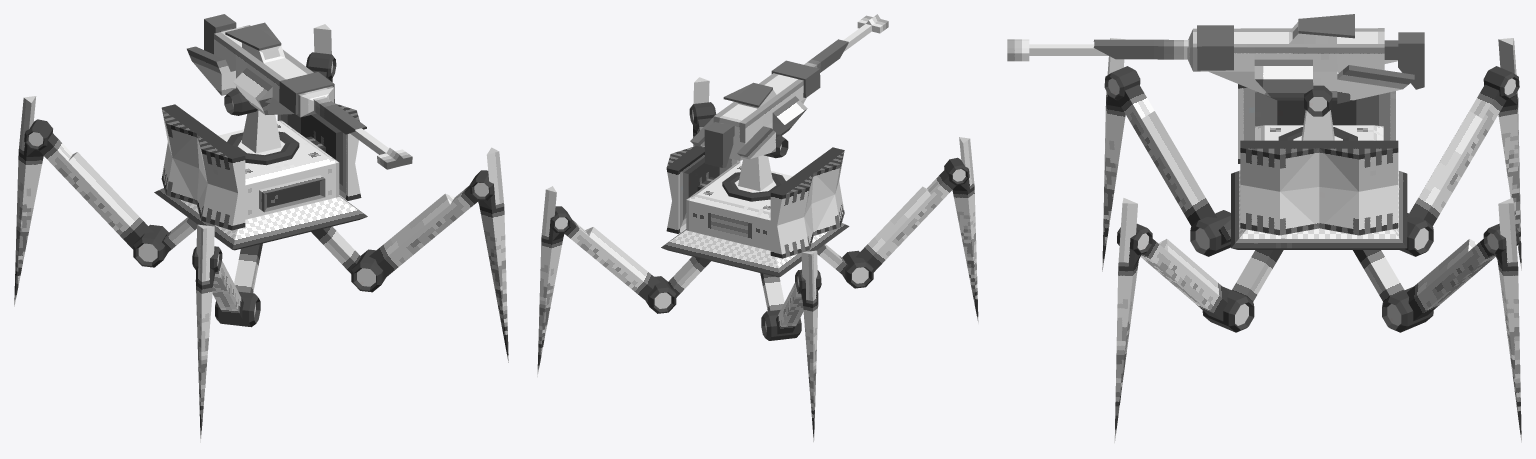
File: Barret Robot.glb
3 views of the same model, side by side, from view 1: azimuth 30°, elevation 25°; view 2: azimuth 150°, elevation 25°; view 3: azimuth 270°, elevation 25° (orthographic). The views are drawn at different scales.
Visible parts, largest first — view 1: Armor, Frame, barret.001, middle leg.002, middle leg.001, lower leg.001, barret muzzle, lower leg.002, lower leg, root, Turner, middle leg (+11 smaller); view 2: Armor, Frame, barret.001, middle leg, barret muzzle, middle leg.003, lower leg.003, lower leg, lower leg.002, root, Turner, middle leg.002 (+10 smaller); view 3: Armor, barret.001, Frame, barret muzzle, middle leg, middle leg.002, middle leg.001, middle leg.003, lower leg.003, lower leg.001, lower leg.002, lower leg (+12 smaller).
Part boxes in pixels (bbox=[...]): Armor: bbox=[161, 103, 361, 230]; Frame: bbox=[154, 120, 367, 250]; barret.001: bbox=[187, 22, 412, 169]; middle leg.002: bbox=[39, 133, 153, 249]; middle leg.001: bbox=[369, 185, 478, 279]; lower leg.001: bbox=[478, 147, 508, 362]; barret muzzle: bbox=[204, 14, 366, 134]; lower leg.002: bbox=[14, 96, 43, 306]; lower leg: bbox=[195, 224, 215, 442]; root: bbox=[241, 110, 281, 153]; Turner: bbox=[227, 131, 299, 165]; middle leg: bbox=[212, 261, 243, 319]; Armor: bbox=[666, 146, 844, 258]; Frame: bbox=[661, 163, 849, 277]; barret.001: bbox=[690, 14, 888, 160]; middle leg: bbox=[855, 170, 956, 272]; barret muzzle: bbox=[704, 39, 848, 167]; middle leg.003: bbox=[564, 219, 660, 302]; lower leg.003: bbox=[537, 186, 564, 376]; lower leg: bbox=[952, 137, 978, 323]; lower leg.002: bbox=[801, 250, 818, 441]; root: bbox=[738, 155, 772, 191]; Turner: bbox=[722, 172, 785, 201]; middle leg.002: bbox=[776, 282, 803, 334]; Armor: bbox=[1238, 84, 1398, 235]; barret.001: bbox=[1007, 14, 1414, 103]; Frame: bbox=[1231, 125, 1407, 249]; barret muzzle: bbox=[1093, 25, 1424, 89]; middle leg: bbox=[1117, 84, 1217, 226]; middle leg.002: bbox=[1407, 84, 1506, 226]; middle leg.001: bbox=[1140, 239, 1229, 321]; middle leg.003: bbox=[1407, 238, 1495, 321]; lower leg.003: bbox=[1495, 197, 1521, 442]; lower leg.001: bbox=[1114, 198, 1141, 442]; lower leg.002: bbox=[1498, 38, 1521, 270]; lower leg: bbox=[1102, 38, 1125, 271].
Size of the model in its own units: 6.83 by 6.19 by 8.64.
Materials: 2 (2 with a texture image).
